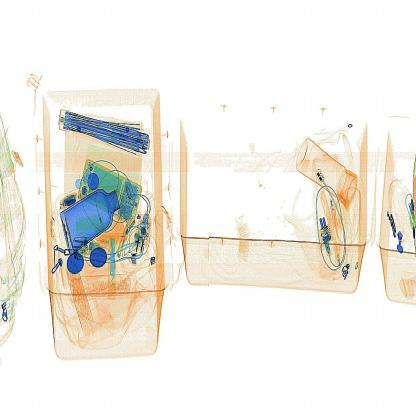pliers: (106, 233, 123, 310)
